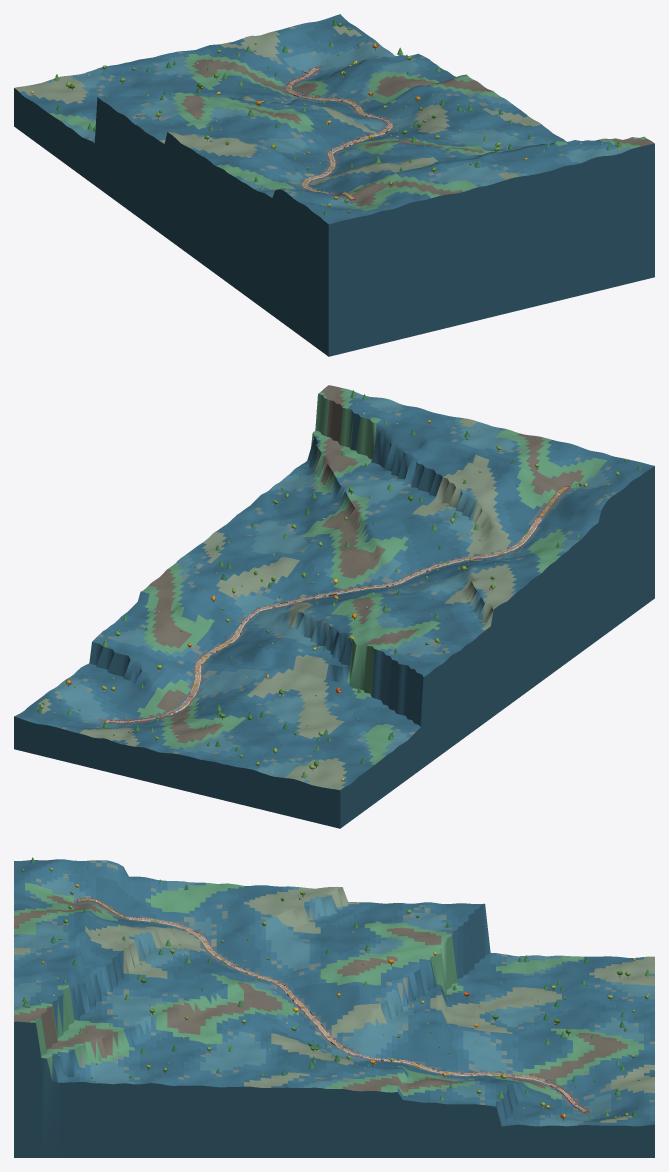
3 renders of one model, top to bottom at view 1: azimuth 30°, elevation 25°; view 2: azimuth 150°, elevation 25°; view 3: azimuth 270°, elevation 25°, orthographic.
Visible parts, largest first — view 1: grass, pines, hay, road, leafy trees; view 2: grass, hay, road, pines, leafy trees; view 3: grass, hay, pines, road, leafy trees.
Part boxes in pixels (x1,y1,x2,y2): grass: (14,14,654,356); pines: (54,19,621,215); hay: (285,67,392,200); road: (286,68,391,199); leafy trees: (66,23,500,213); grass: (14,385,654,828); hay: (104,485,570,723); road: (105,486,568,722); pines: (37,390,641,778); leafy trees: (40,437,626,769); grass: (14,859,654,1157); hay: (77,898,588,1112); pines: (22,857,650,1116); road: (78,898,586,1111); leafy trees: (21,867,648,1118).
Bounding box in the file's own units: 420 × 174 × 702.
